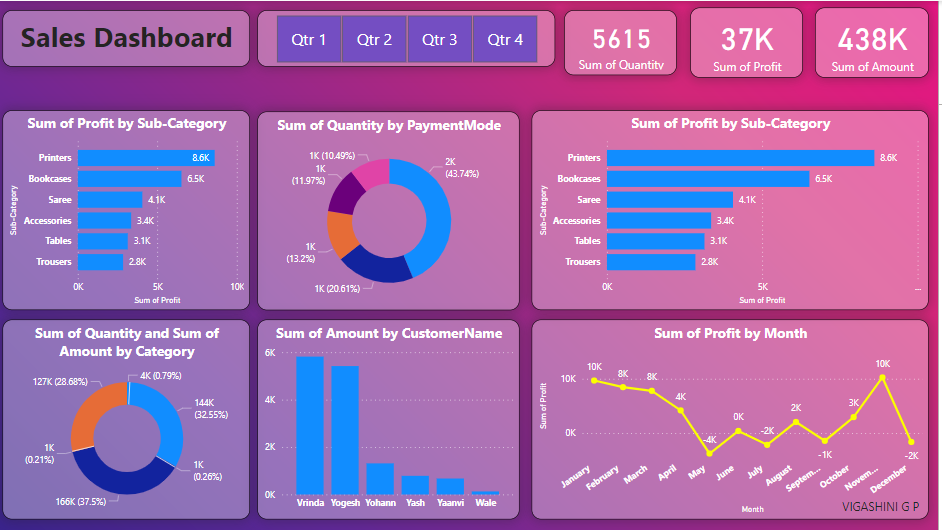

The page's visual inventory and layout, read from the dashboard file:
{"tool":"powerbi","page":{"name":"Page 1","canvas":[1280,720],"ordinal":0},"visuals":[{"type":"textbox","box":[9.4,12.1,336.3,76.7],"z":0},{"type":"lineChart","fields":{"Category":["Orders.Order Date.Variation.Date Hierarchy.Month"],"Y":["Details.Profit"]},"box":[727.7,431.8,539.4,271.7],"z":1000},{"type":"barChart","fields":{"Y":["Details.Profit"],"Category":["Details.Sub-Category"]},"box":[727.7,148,539.4,271.7],"z":2000},{"type":"donutChart","fields":{"Y":["Details.Quantity","Details.Amount"],"Category":["Details.Category"]},"box":[9.4,431.8,336.3,271.7],"z":3000},{"type":"donutChart","fields":{"Y":["Details.Quantity"],"Category":["Details.PaymentMode"]},"box":[355.1,149.3,356.5,270.4],"z":4000},{"type":"card","fields":{"Values":["Details.Amount"]},"box":[1112.4,8.1,154.7,95.5],"z":5000},{"type":"card","fields":{"Values":["Details.Profit"]},"box":[942.9,9.4,153.3,95.5],"z":6000},{"type":"card","fields":{"Values":["Details.Quantity"]},"box":[770.7,12.1,153.3,88.8],"z":7000},{"type":"barChart","fields":{"Y":["Details.Profit"],"Category":["Details.Sub-Category"]},"box":[9.4,148,336.3,271.7],"z":8000},{"type":"lineStackedColumnComboChart","fields":{"Category":["Orders.CustomerName"],"Y":["Details.Amount"]},"box":[355.1,431.8,356.5,271.7],"z":9000},{"type":"slicer","fields":{"Values":["Orders.Order Date.Variation.Date Hierarchy.Quarter"]},"box":[355.1,12.1,404.9,76.7],"z":10000},{"type":"textbox","box":[1144.2,671,136,49.4],"z":10001}]}

Visuals, with their boxes in screenshot pixels (x1, y1, x2, y2), scaled from the page's 1280x720 canvas onto the 942x530 screenshot:
textbox: [x1=7, y1=9, x2=254, y2=65]
lineChart - Orders.Order Date.Variation.Date Hierarchy.Month x Details.Profit: [x1=536, y1=318, x2=933, y2=518]
barChart - Details.Profit x Details.Sub-Category: [x1=536, y1=109, x2=933, y2=309]
donutChart - Details.Quantity x Details.Amount: [x1=7, y1=318, x2=254, y2=518]
donutChart - Details.Quantity x Details.PaymentMode: [x1=261, y1=110, x2=524, y2=309]
card - Details.Amount: [x1=819, y1=6, x2=933, y2=76]
card - Details.Profit: [x1=694, y1=7, x2=807, y2=77]
card - Details.Quantity: [x1=567, y1=9, x2=680, y2=74]
barChart - Details.Profit x Details.Sub-Category: [x1=7, y1=109, x2=254, y2=309]
lineStackedColumnComboChart - Orders.CustomerName x Details.Amount: [x1=261, y1=318, x2=524, y2=518]
slicer - Orders.Order Date.Variation.Date Hierarchy.Quarter: [x1=261, y1=9, x2=559, y2=65]
textbox: [x1=842, y1=494, x2=941, y2=529]
